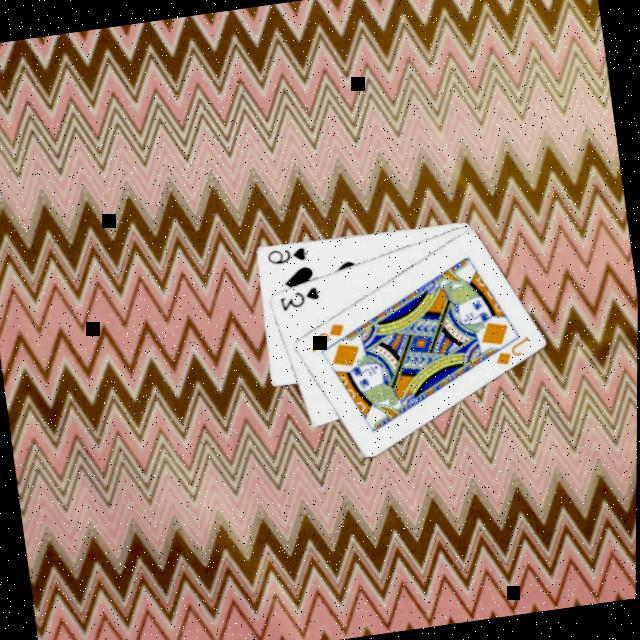3S: (276, 280, 326, 312)
9S: (264, 240, 312, 266)
JD: (304, 316, 350, 354), (491, 330, 537, 368)
